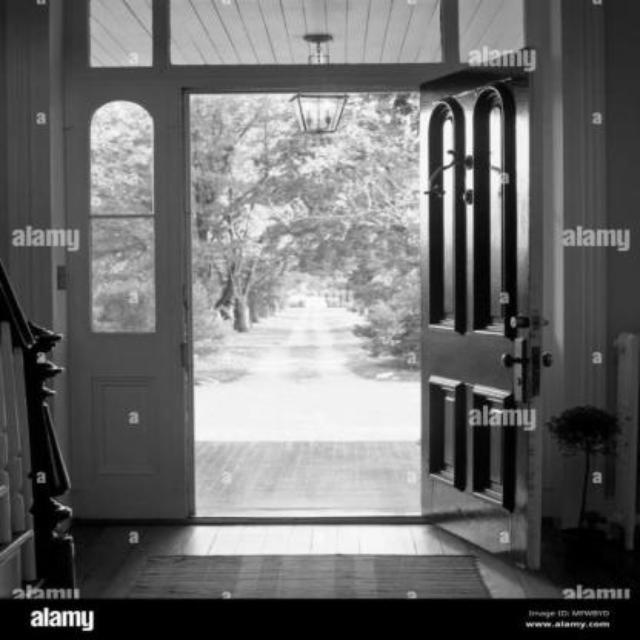door: (418, 75, 532, 561)
